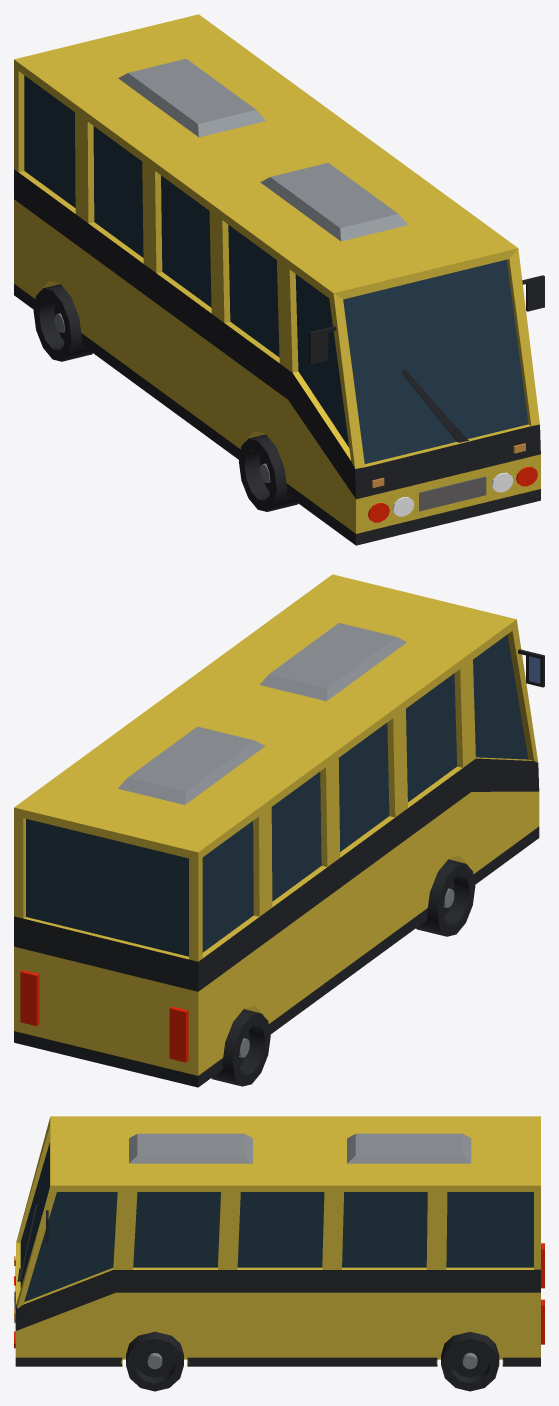
The model's file is Bus_1.fbx.
The picture shows the model from 3 angles, top to bottom: view 1: azimuth 30°, elevation 25°; view 2: azimuth 150°, elevation 25°; view 3: azimuth 270°, elevation 25°; orthographic projection. The views are drawn at different scales.
Visible parts, largest first — view 1: Bus_1; view 2: Bus_1; view 3: Bus_1.
Part boxes in pixels (x1=…): Bus_1: x1=14, y1=14, x2=544, y2=545; Bus_1: x1=14, y1=574, x2=544, y2=1087; Bus_1: x1=14, y1=1116, x2=544, y2=1391.
Size of the model in its own units: 323 by 360 by 827.
